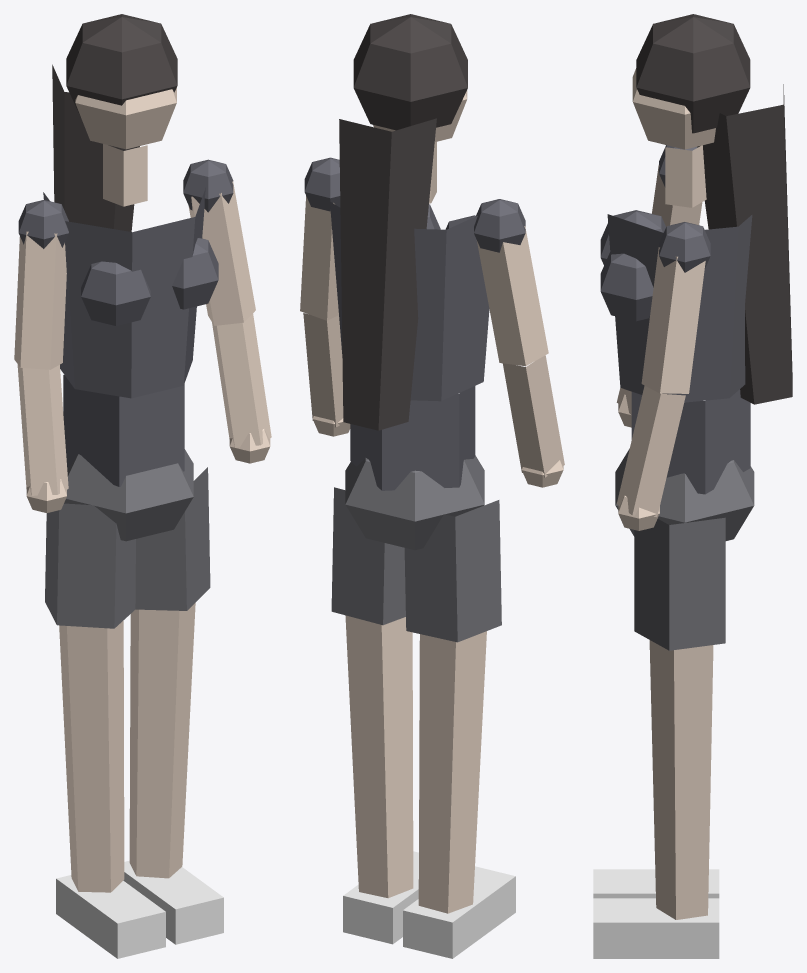
Rendered from fan_girl_stand.glb.
3 views of the same model, side by side, from view 1: azimuth 30°, elevation 25°; view 2: azimuth 150°, elevation 25°; view 3: azimuth 270°, elevation 25° (orthographic). The views are drawn at different scales.
Visible parts, largest first — view 1: fan_girl_stand; view 2: fan_girl_stand; view 3: fan_girl_stand.
Part boxes in pixels (left/top/right/bottom): fan_girl_stand: left=14, top=14, right=271, bottom=958; fan_girl_stand: left=300, top=14, right=564, bottom=958; fan_girl_stand: left=593, top=14, right=792, bottom=958.
Bounding box in the file's own units: 0.4788 × 1.68 × 0.331.
